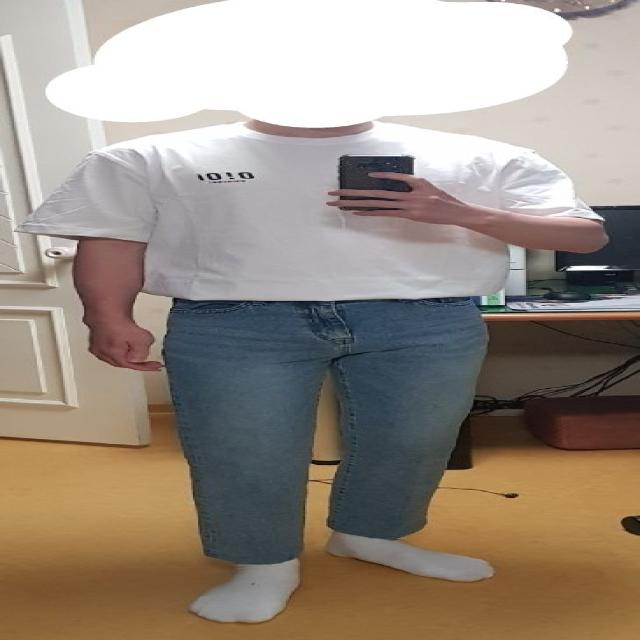denimpants: (168, 293, 495, 562)
shortsleeve: (41, 123, 588, 302)
